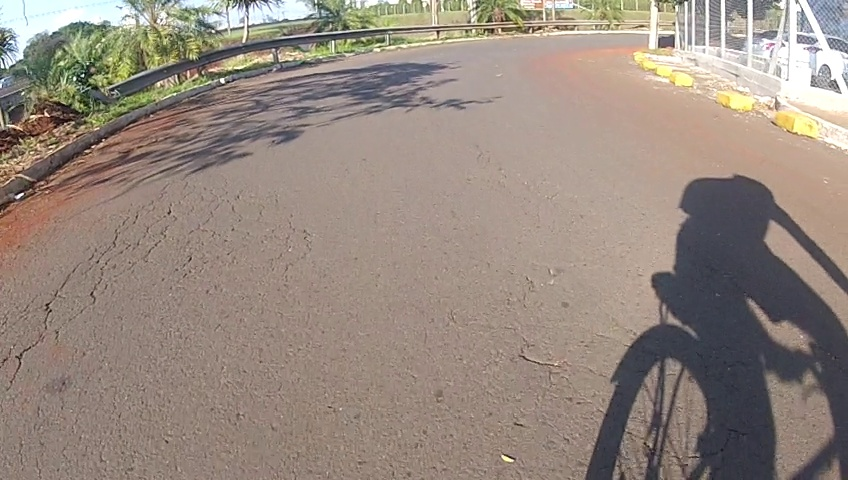TRF: (0, 168, 324, 370), (477, 250, 706, 478)
